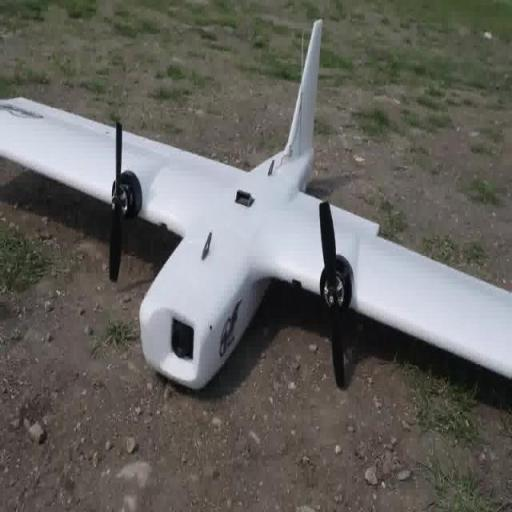uav: (1, 1, 512, 400)
